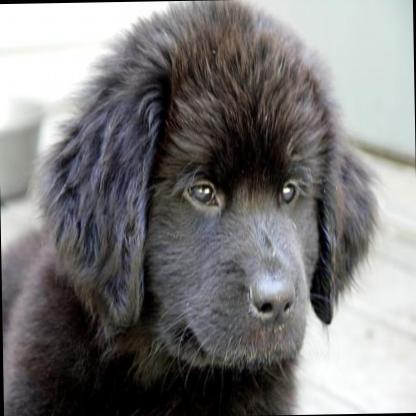Newfoundland: (0, 0, 387, 416)
